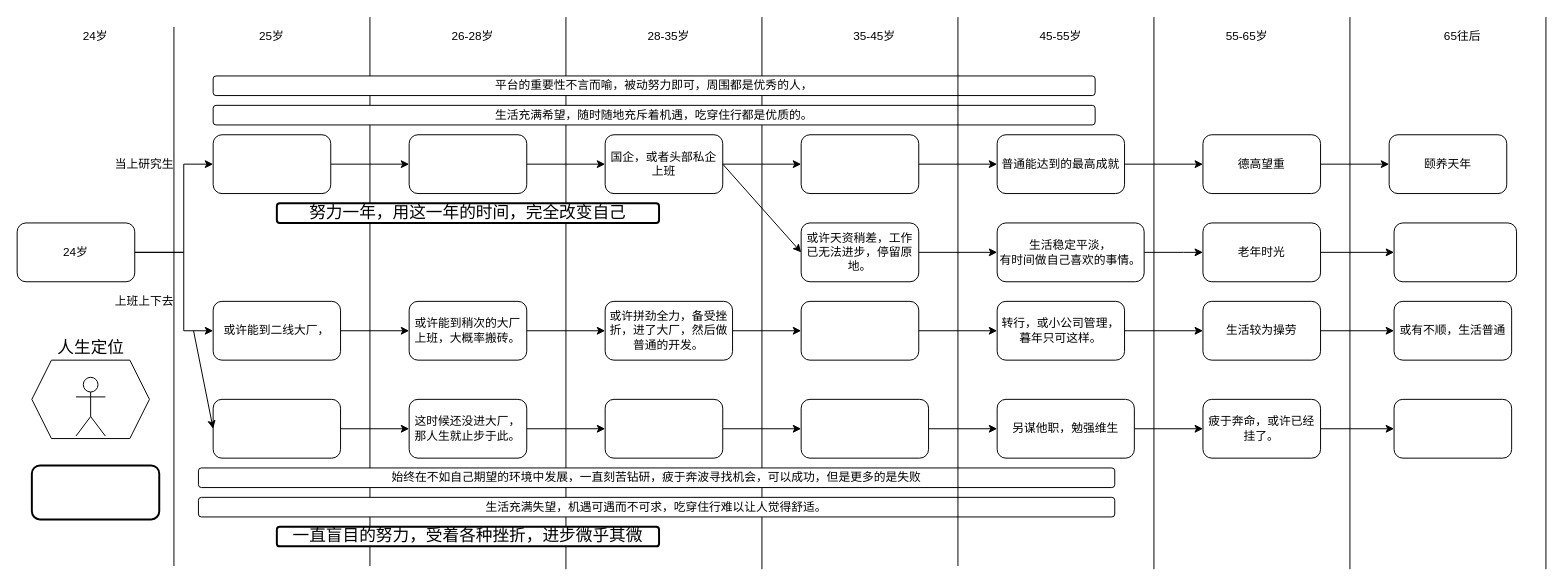
Some shapes in this 1564 by 588 pixel diagram are drawn without their labels. The box of each missing label's shape, as (x1, y1, x2, y2) in pixels:
偶有不顺，较为轻松。: (1393, 222, 1517, 282)
备战考研 并考上研究生: (212, 134, 331, 194)
展露锋芒，事业到达一定地位，和优秀朋友们谈笑风生: (800, 134, 919, 194)
平台的作用大于个人的努力: (30, 464, 160, 520)
年限已至，或被裁员 ，或转管理也没有任何优势。: (800, 300, 919, 360)
或许依旧在小厂搬砖。: (212, 398, 341, 458)
普通人: (75, 376, 105, 436)
普通开发，四处求职。 为生计奔波。: (800, 398, 929, 458)
电子科大 攻读研究生: (408, 134, 527, 194)
能不能活着， 还是个疑问。: (1393, 398, 1512, 458)
被生活折磨的奄奄一息，那就这样了。: (604, 398, 723, 458)
